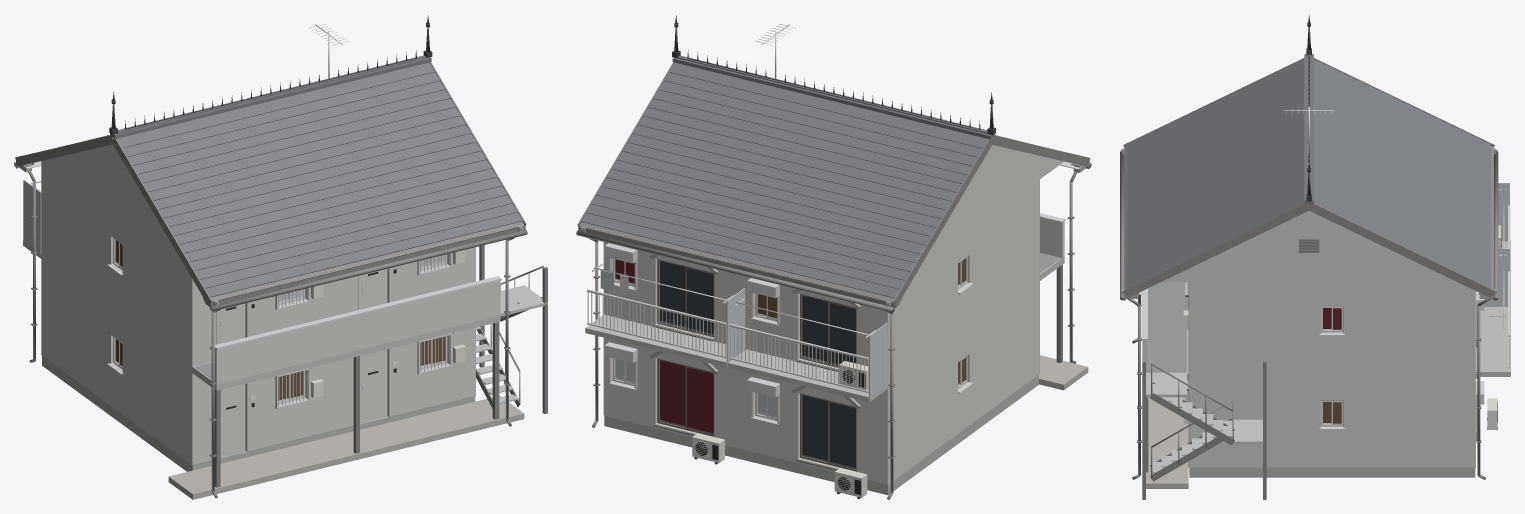
The model's file is blk_outerm1_0_7.glb.
The picture shows the model from 3 angles, left to right: view 1: azimuth 30°, elevation 25°; view 2: azimuth 150°, elevation 25°; view 3: azimuth 270°, elevation 25°; orthographic projection. The views are drawn at different scales.
Visible parts, largest first — view 1: blk_outerm1_0_7; view 2: blk_outerm1_0_7; view 3: blk_outerm1_0_7.
Part boxes in pixels (x1,y1,x2,y2): blk_outerm1_0_7: (14,15,547,499); blk_outerm1_0_7: (576,15,1091,499); blk_outerm1_0_7: (1120,14,1510,499).
Bounding box in the file's own units: 10.53 × 9.89 × 10.55.
